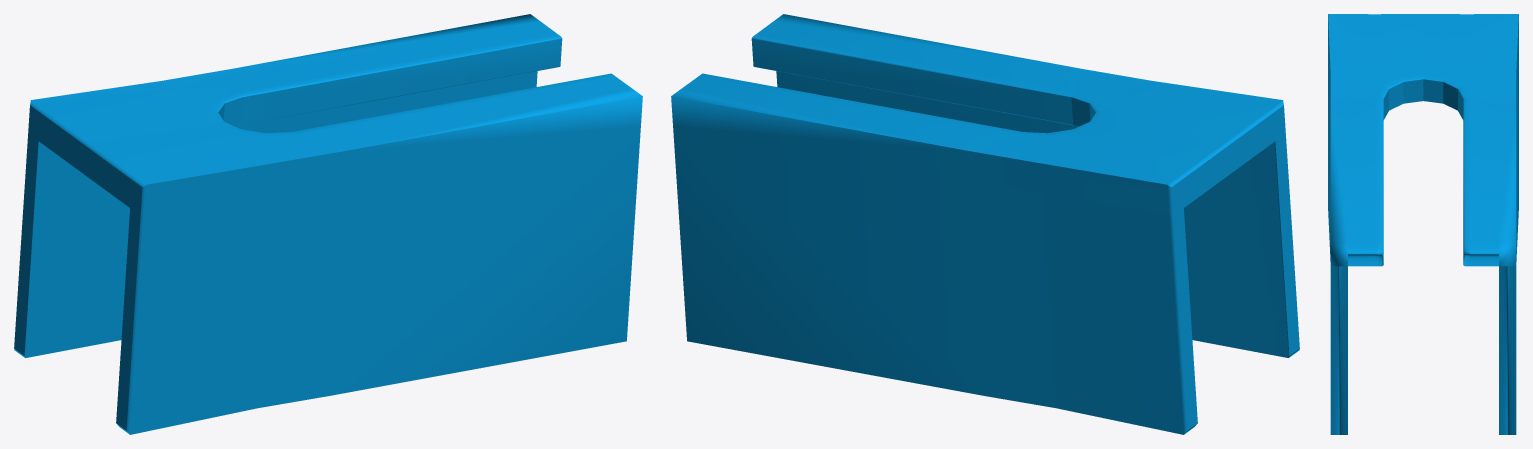
The model's file is Wide_Plunger_Cover.fbx.
3 renders of one model, left to right at view 1: azimuth 30°, elevation 25°; view 2: azimuth 150°, elevation 25°; view 3: azimuth 270°, elevation 25°, orthographic. The views are drawn at different scales.
Visible parts, largest first — view 1: Wide_Plunger_Cover; view 2: Wide_Plunger_Cover; view 3: Wide_Plunger_Cover.
Boxes of the visible parts, <box> form: Wide_Plunger_Cover: <box>14,14,642,434</box>; Wide_Plunger_Cover: <box>671,14,1299,434</box>; Wide_Plunger_Cover: <box>1328,14,1518,434</box>.
Bounding box in the file's own units: 13.18 × 6.71 × 5.11.
